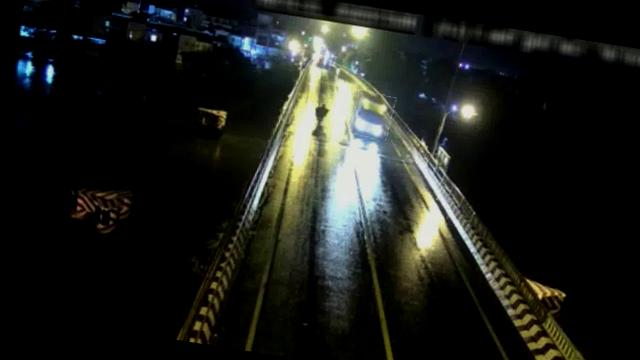Bike: (314, 102, 332, 126)
Truck: (350, 88, 396, 140)
